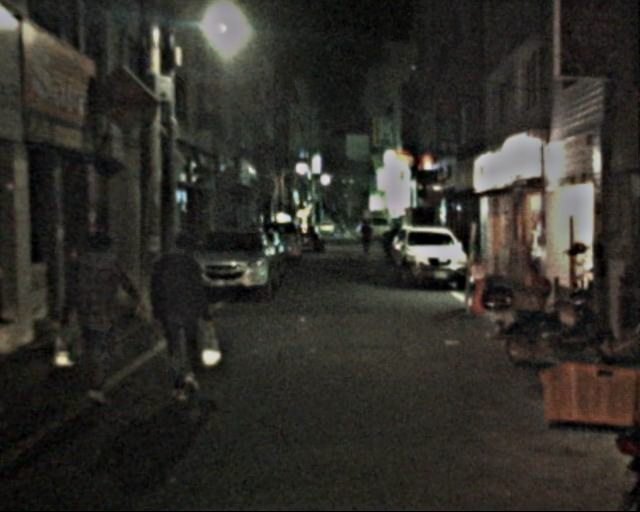person: (62, 226, 132, 400), (145, 234, 214, 401), (356, 215, 372, 253)
